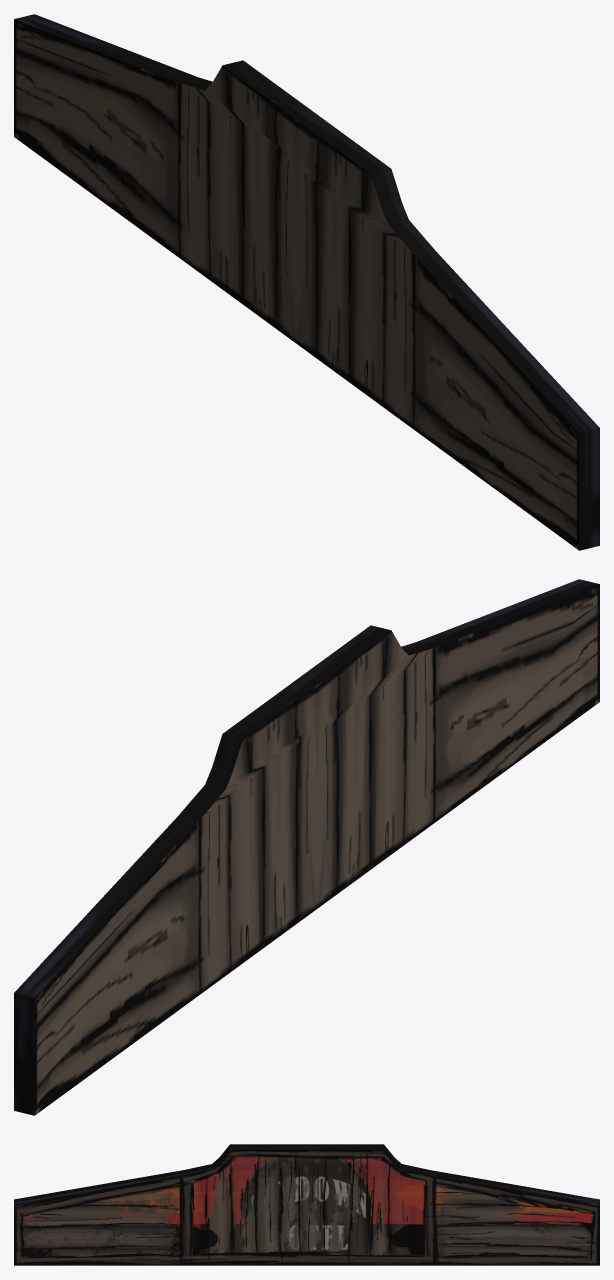
The model's file is Sign_Hotel_FrontFlat.fbx.
The picture shows the model from 3 angles, top to bottom: view 1: azimuth 30°, elevation 25°; view 2: azimuth 150°, elevation 25°; view 3: azimuth 270°, elevation 25°; orthographic projection. The views are drawn at different scales.
Visible parts, largest first — view 1: pCube581; view 2: pCube581; view 3: pCube581.
Part boxes in pixels (left/top/right/bottom): pCube581: left=14, top=14, right=599, bottom=550; pCube581: left=14, top=579, right=599, bottom=1115; pCube581: left=14, top=1144, right=599, bottom=1265.
Size of the model in its own units: 0.5009 by 5.21 by 23.8.
